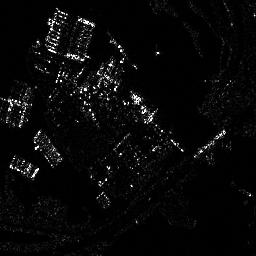ship: (8, 153, 39, 179)
